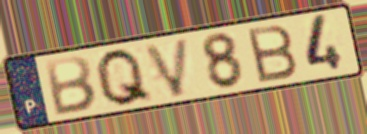4: (303, 12, 350, 76)
8: (200, 31, 247, 91)
B: (243, 22, 300, 85), (43, 54, 99, 118)
Q: (93, 46, 157, 109)
V: (142, 35, 192, 100)
